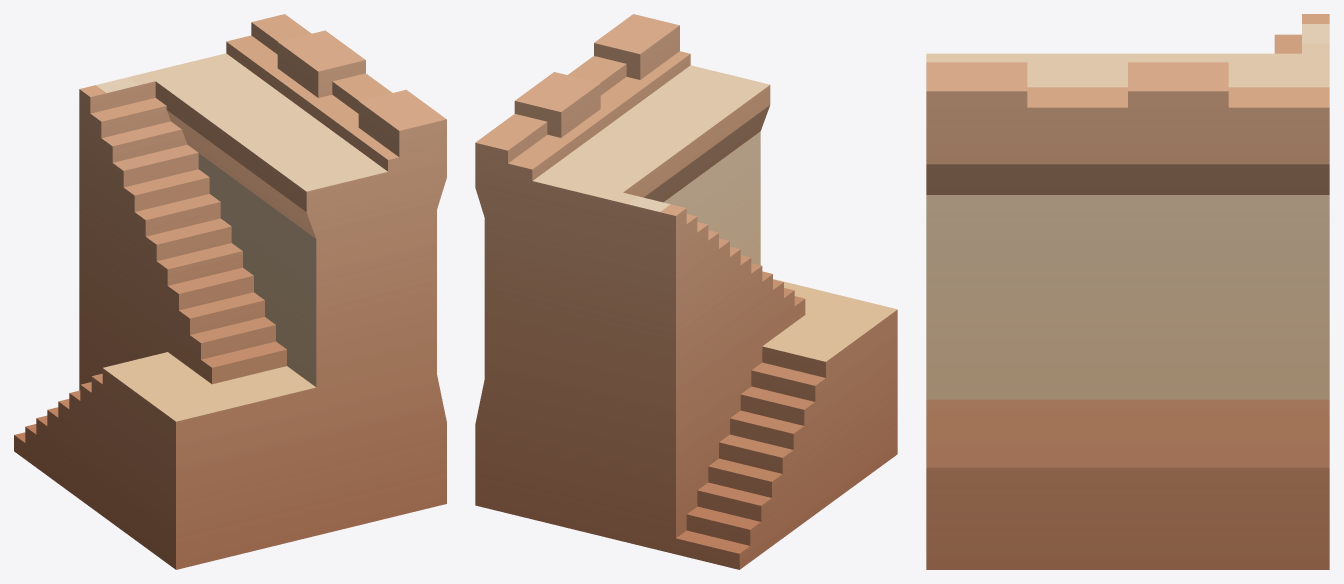
The model's file is wall-narrow-stairs.obj.
3 views of the same model, side by side, from view 1: azimuth 30°, elevation 25°; view 2: azimuth 150°, elevation 25°; view 3: azimuth 270°, elevation 25° (orthographic). The views are drawn at different scales.
Visible parts, largest first — view 1: wall-narrow-stairs; view 2: wall-narrow-stairs; view 3: wall-narrow-stairs.
Boxes of the visible parts, x1,y1,x2,y2 form: wall-narrow-stairs: (14,14,446,569); wall-narrow-stairs: (475,14,897,569); wall-narrow-stairs: (926,14,1329,569).
Bounding box in the file's own units: 0.965 × 1.31 × 1.
1 material, 1 textured.
